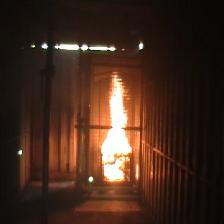fire: (101, 71, 132, 182)
